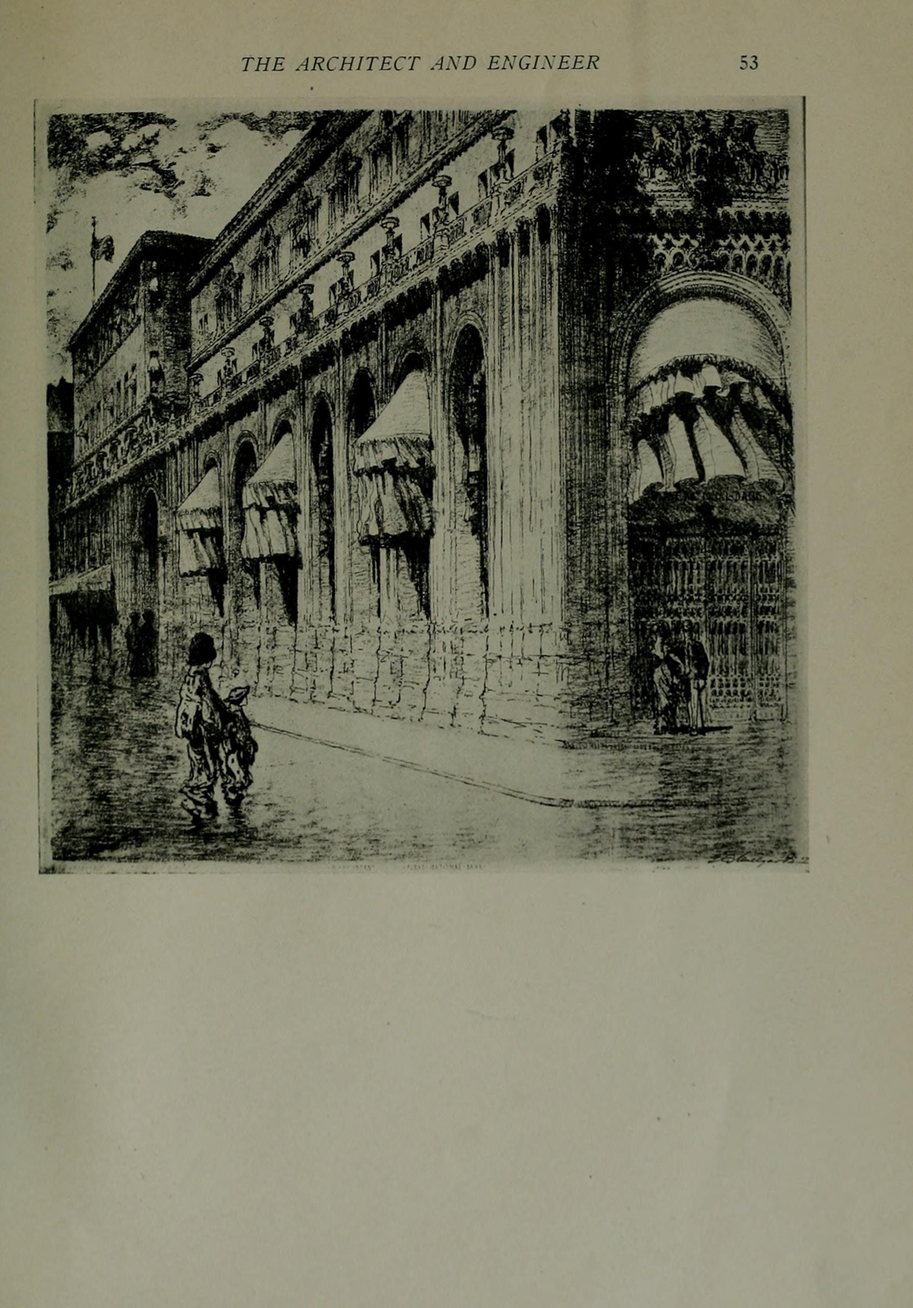fachada: (49, 127, 789, 748)
